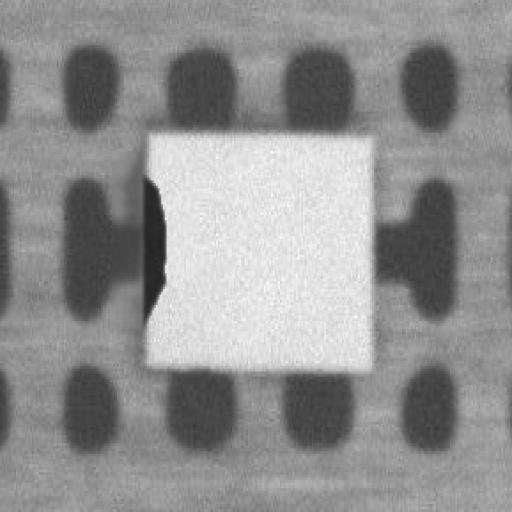DIE_BROKEN: (136, 170, 166, 324)
